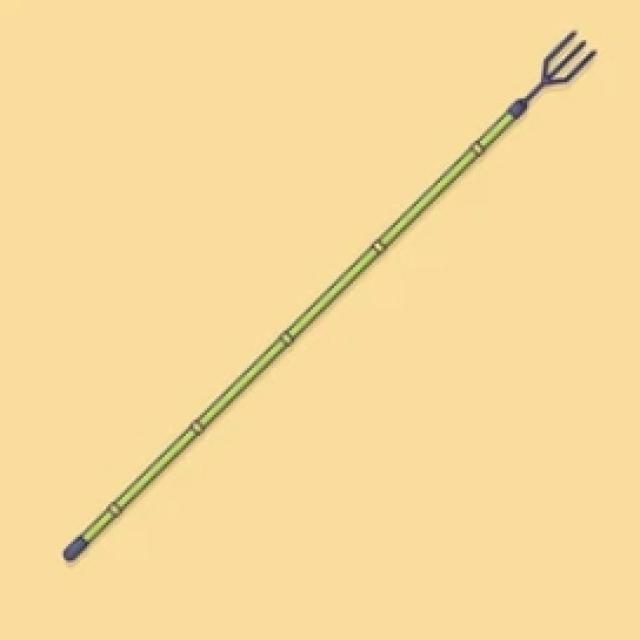spear: (47, 19, 618, 582)
